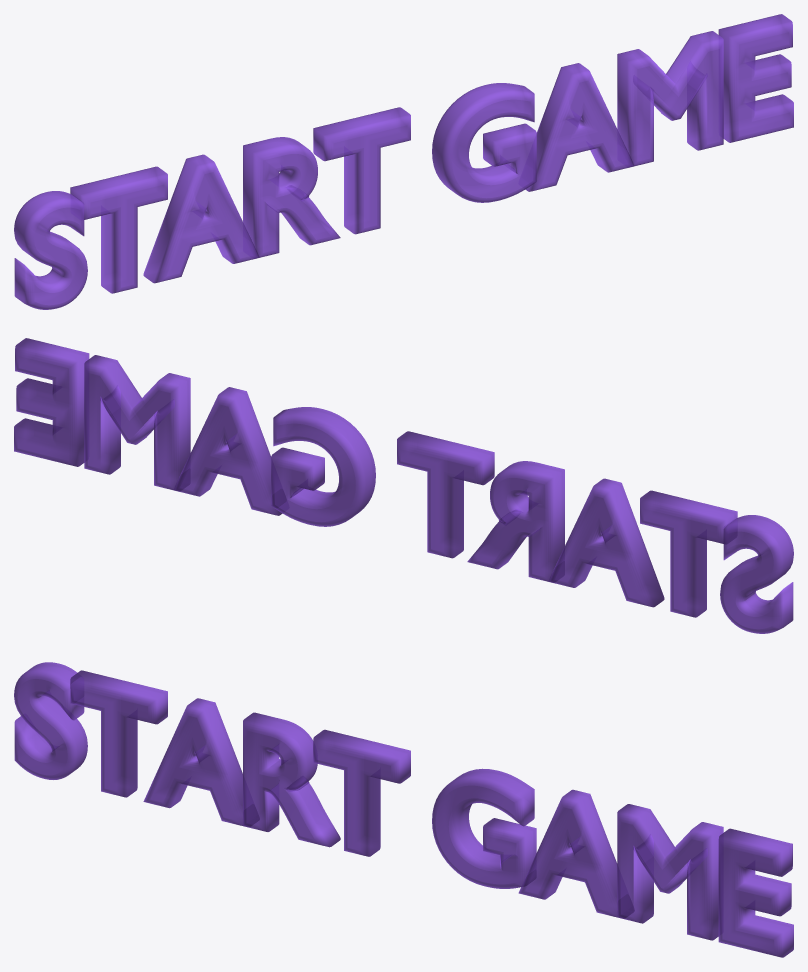
Rendered from start_game.fbx.
3 views of the same model, one above another, from view 1: azimuth 30°, elevation 25°; view 2: azimuth 150°, elevation 25°; view 3: azimuth 330°, elevation 25° (orthographic).
Parts seen in each view (by area): view 1: Text.001; view 2: Text.001; view 3: Text.001.
Part boxes in pixels (x1,y1,x2,y2): Text.001: (14,14,793,309); Text.001: (14,338,793,633); Text.001: (14,662,793,957).
Size of the model in its own units: 593 by 80.01 by 22.
